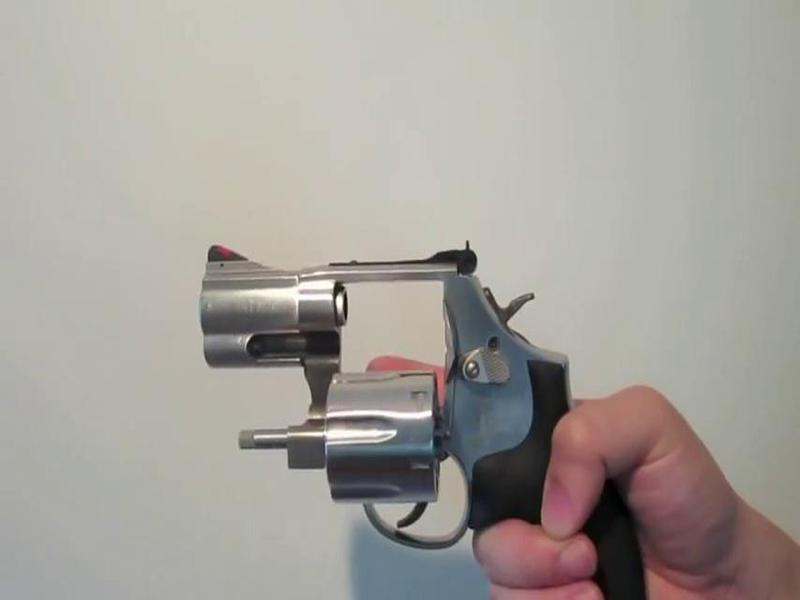Revolver: (172, 211, 673, 596)
